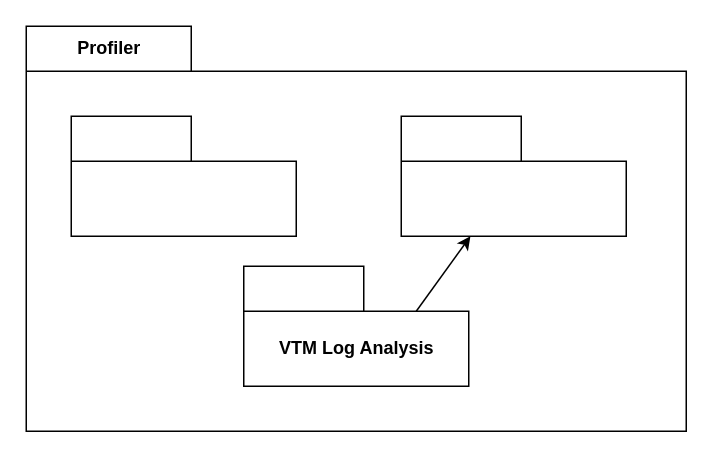
Image size: 713x458. Some labels were removed from this diagram. The shapes that lost their labels are listed below. From the top down, each one's box as (x1, y1, x2, y2) in pixels, then its label:
(70, 115, 296, 236): Gprof Log Analysis
(400, 115, 626, 236): BD Rate Analysis
